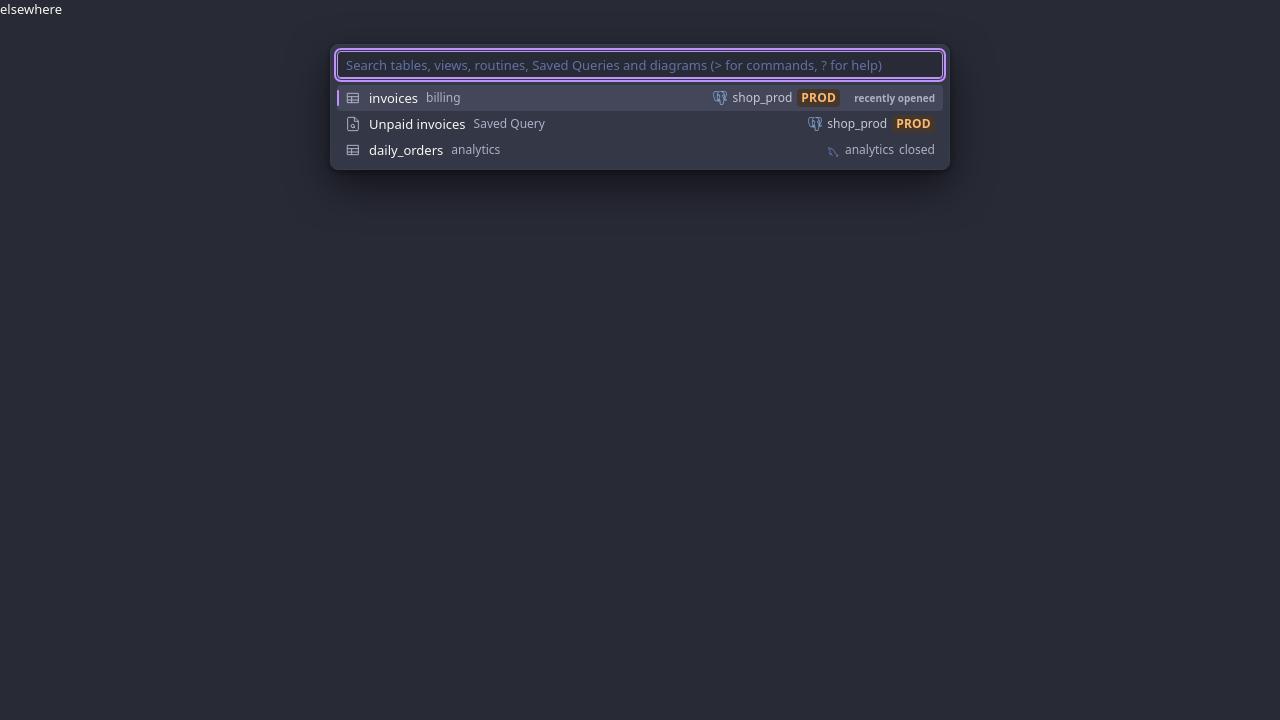
Test: gt_switches_to_commands_and_backspace_goes_back
Replace the text in the dropdown with ">". click: [640, 65]
box: 337,51 -> 943,79
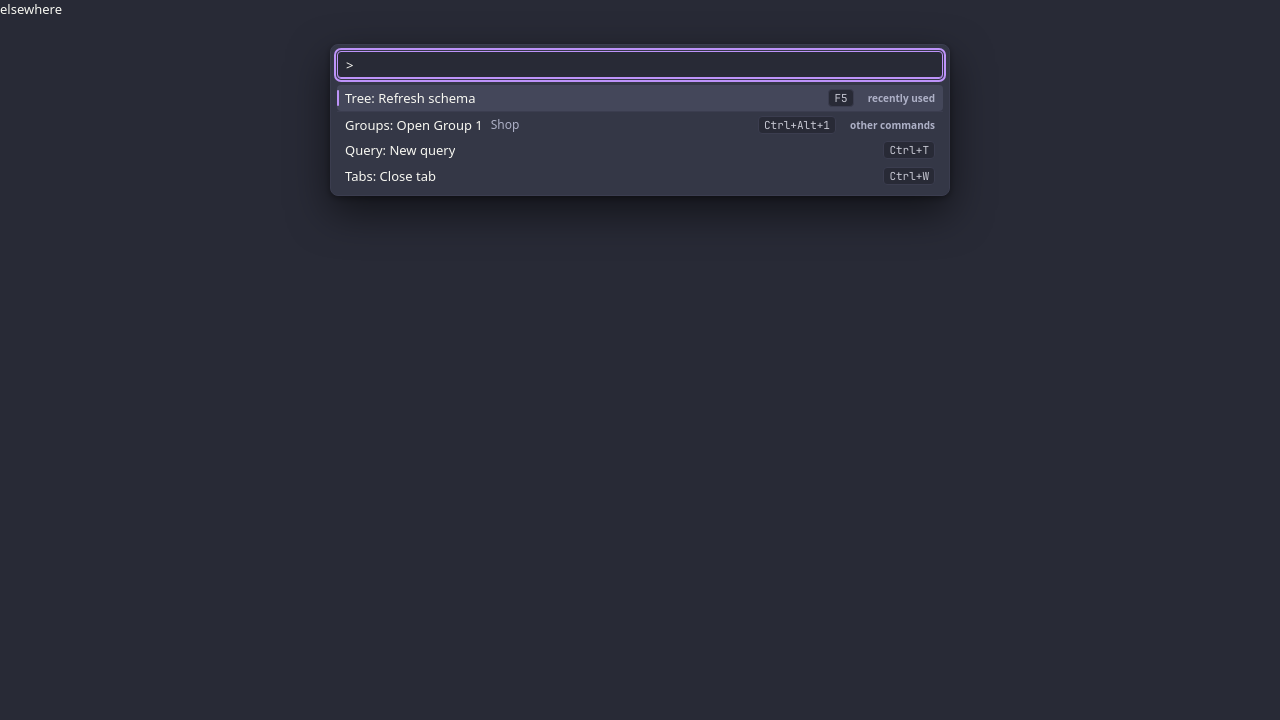
expect the dialog named "Command Palette" is shown: met, box 330,44 -> 950,196
expect the option "Tree: Refresh schema F5 recently used" is shown: met, box 337,85 -> 943,111
expect the option "Groups: Open Group 1 Shop Ctrl+Alt+1 other commands" is shown: met, box 337,111 -> 943,137
Clear the dropdown. click: [640, 65]
box: 337,51 -> 943,79
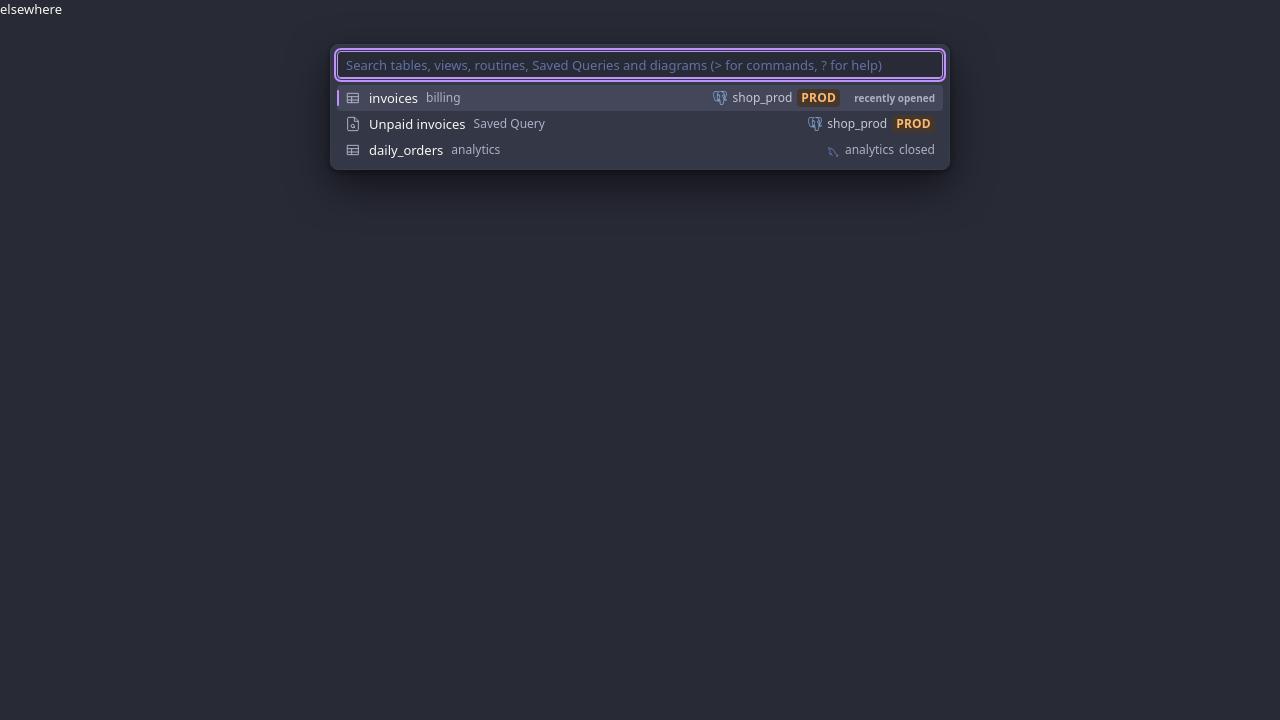
expect the dialog named "Quick Open" is shown: met, box 330,44 -> 950,170
expect the text "invoices" is shown: met, box 369,89 -> 418,107
